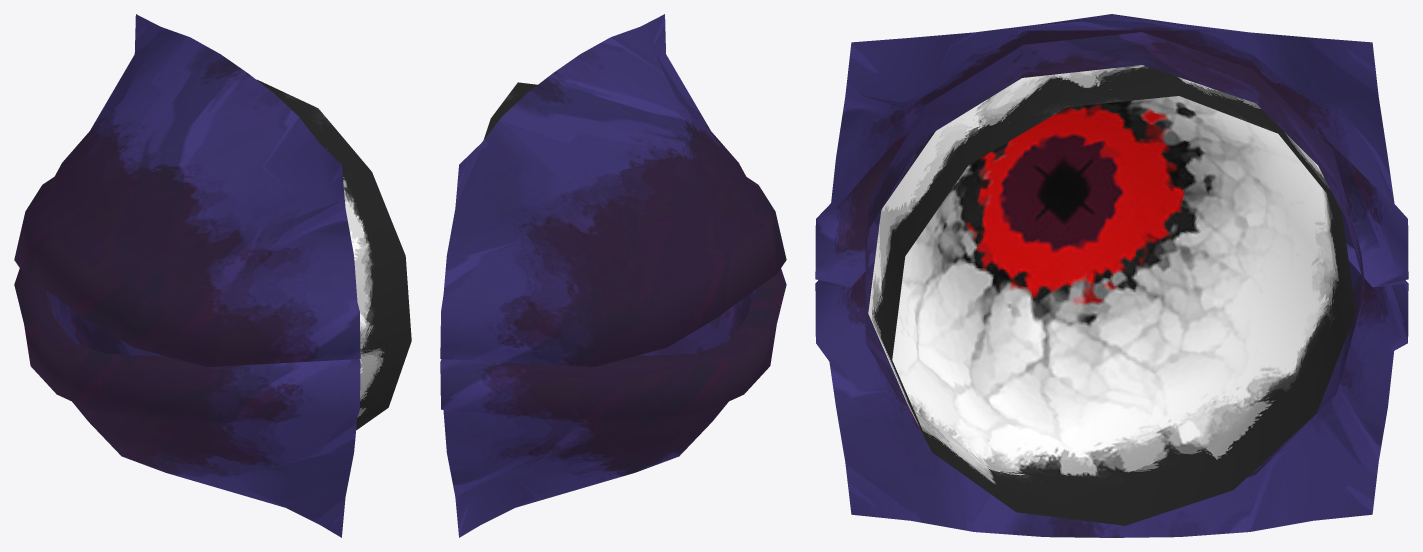
File: oeil_apply.glb
3 views of the same model, side by side, from view 1: azimuth 30°, elevation 25°; view 2: azimuth 150°, elevation 25°; view 3: azimuth 270°, elevation 25° (orthographic). The views are drawn at different scales.
Visible parts, largest first — view 1: paupiereHaut, paupiereBas, oeil, deuxieme_paupiere; view 2: paupiereHaut, paupiereBas, deuxieme_paupiere, oeil; view 3: oeil, paupiereBas, paupiereHaut, deuxieme_paupiere.
Boxes of the visible parts, left/top/right/bottom form: paupiereHaut: left=14, top=14, right=360, bottom=366; paupiereBas: left=14, top=268, right=360, bottom=537; oeil: left=257, top=79, right=411, bottom=430; deuxieme_paupiere: left=46, top=290, right=165, bottom=356; paupiereHaut: left=440, top=14, right=786, bottom=366; paupiereBas: left=440, top=268, right=786, bottom=537; deuxieme_paupiere: left=635, top=289, right=755, bottom=356; oeil: left=483, top=82, right=537, bottom=139; oeil: left=868, top=65, right=1355, bottom=525; paupiereBas: left=815, top=271, right=1408, bottom=537; paupiereHaut: left=815, top=14, right=1408, bottom=287; deuxieme_paupiere: left=865, top=32, right=1365, bottom=477.
Bounding box in the file's own units: 0.3632 × 0.5017 × 0.5313.
Materials: 1 (1 with a texture image).
